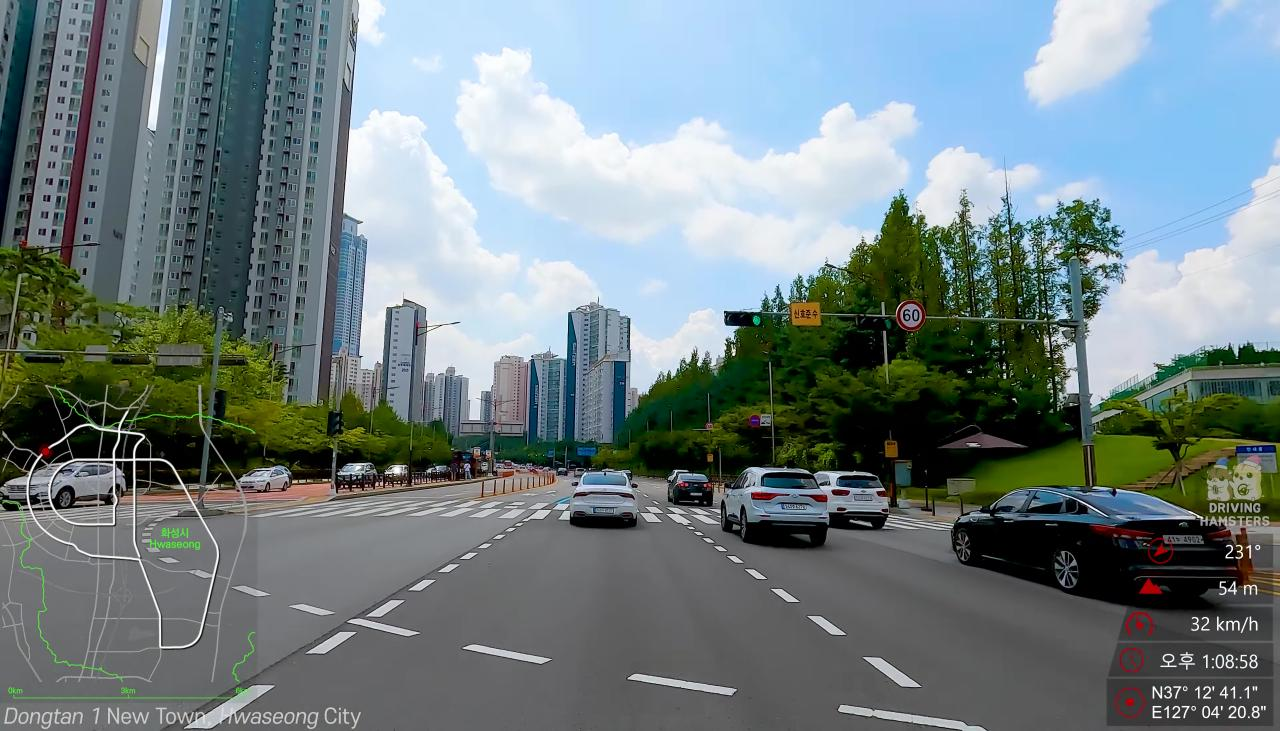Green Light: (882, 316, 893, 330), (751, 314, 762, 327)
